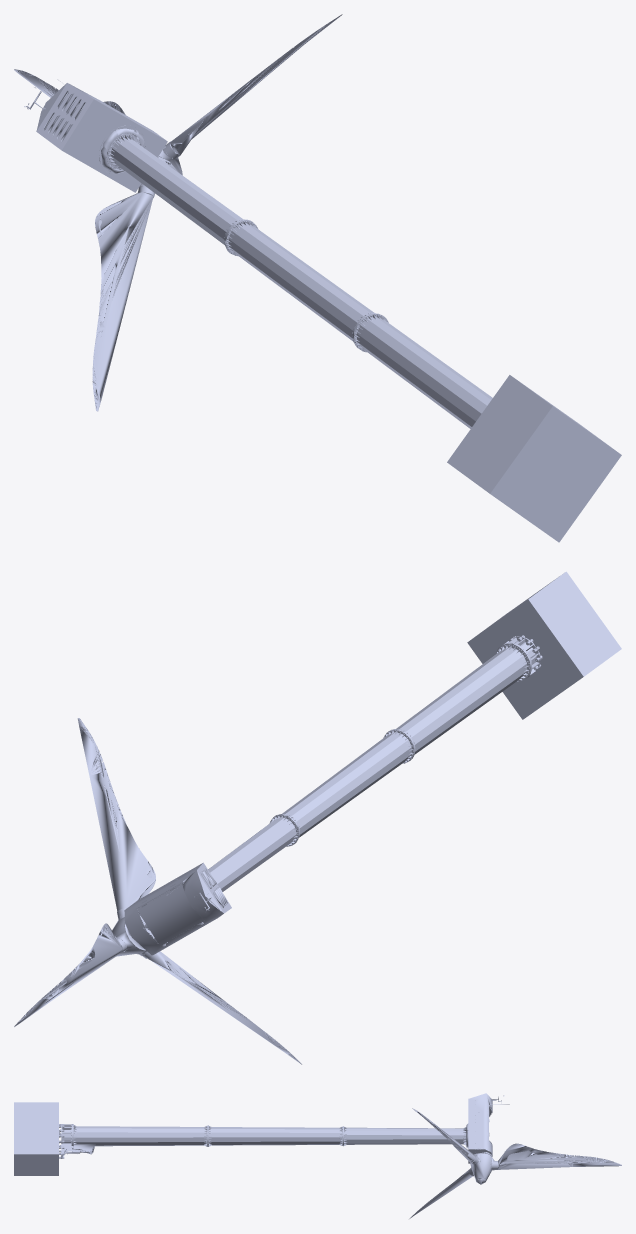
Rendered from wind-turbine-engineering-simplified.glb.
The picture shows the model from 3 angles, top to bottom: view 1: azimuth 30°, elevation 25°; view 2: azimuth 150°, elevation 25°; view 3: azimuth 270°, elevation 25°; orthographic projection. The views are drawn at different scales.
Visible parts, largest first — view 1: _raf za stub 1 i le_aj_ISO 7412 - M20 x 120 --- 43-CN.STEP; view 2: _raf za stub 1 i le_aj_ISO 7412 - M20 x 120 --- 43-CN.STEP; view 3: _raf za stub 1 i le_aj_ISO 7412 - M20 x 120 --- 43-CN.STEP.
Boxes of the visible parts, left/top/right/bottom form: _raf za stub 1 i le_aj_ISO 7412 - M20 x 120 --- 43-CN.STEP: left=14, top=14, right=621, bottom=542; _raf za stub 1 i le_aj_ISO 7412 - M20 x 120 --- 43-CN.STEP: left=14, top=571, right=621, bottom=1064; _raf za stub 1 i le_aj_ISO 7412 - M20 x 120 --- 43-CN.STEP: left=14, top=1093, right=621, bottom=1218.
Size of the model in its own units: 6.71 by 8.55 by 26.96.
